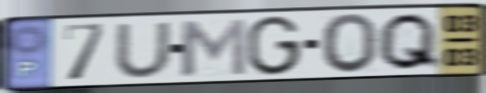7: (62, 21, 106, 83)
G: (245, 14, 304, 78)
M: (176, 16, 249, 78)
O: (319, 11, 380, 76)
Q: (375, 10, 444, 72)
U: (112, 20, 174, 80)
